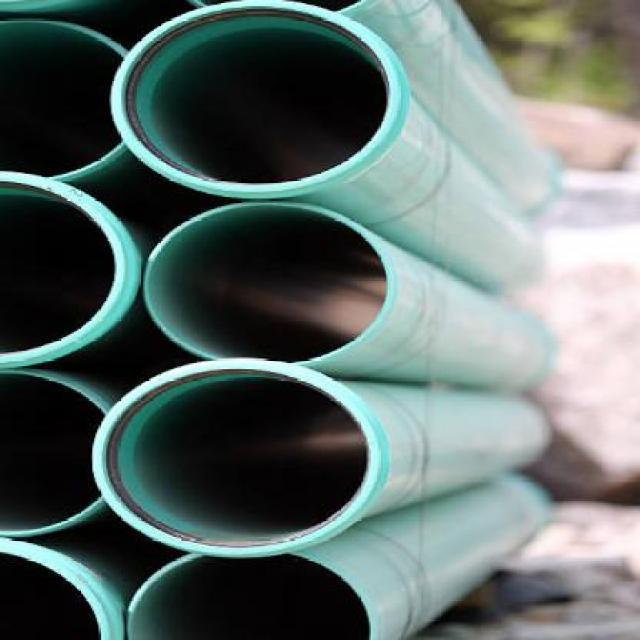pipe: (94, 359, 386, 560), (111, 2, 405, 198), (143, 202, 397, 368), (0, 169, 128, 363), (128, 552, 380, 640), (0, 19, 130, 183), (0, 368, 108, 539)
